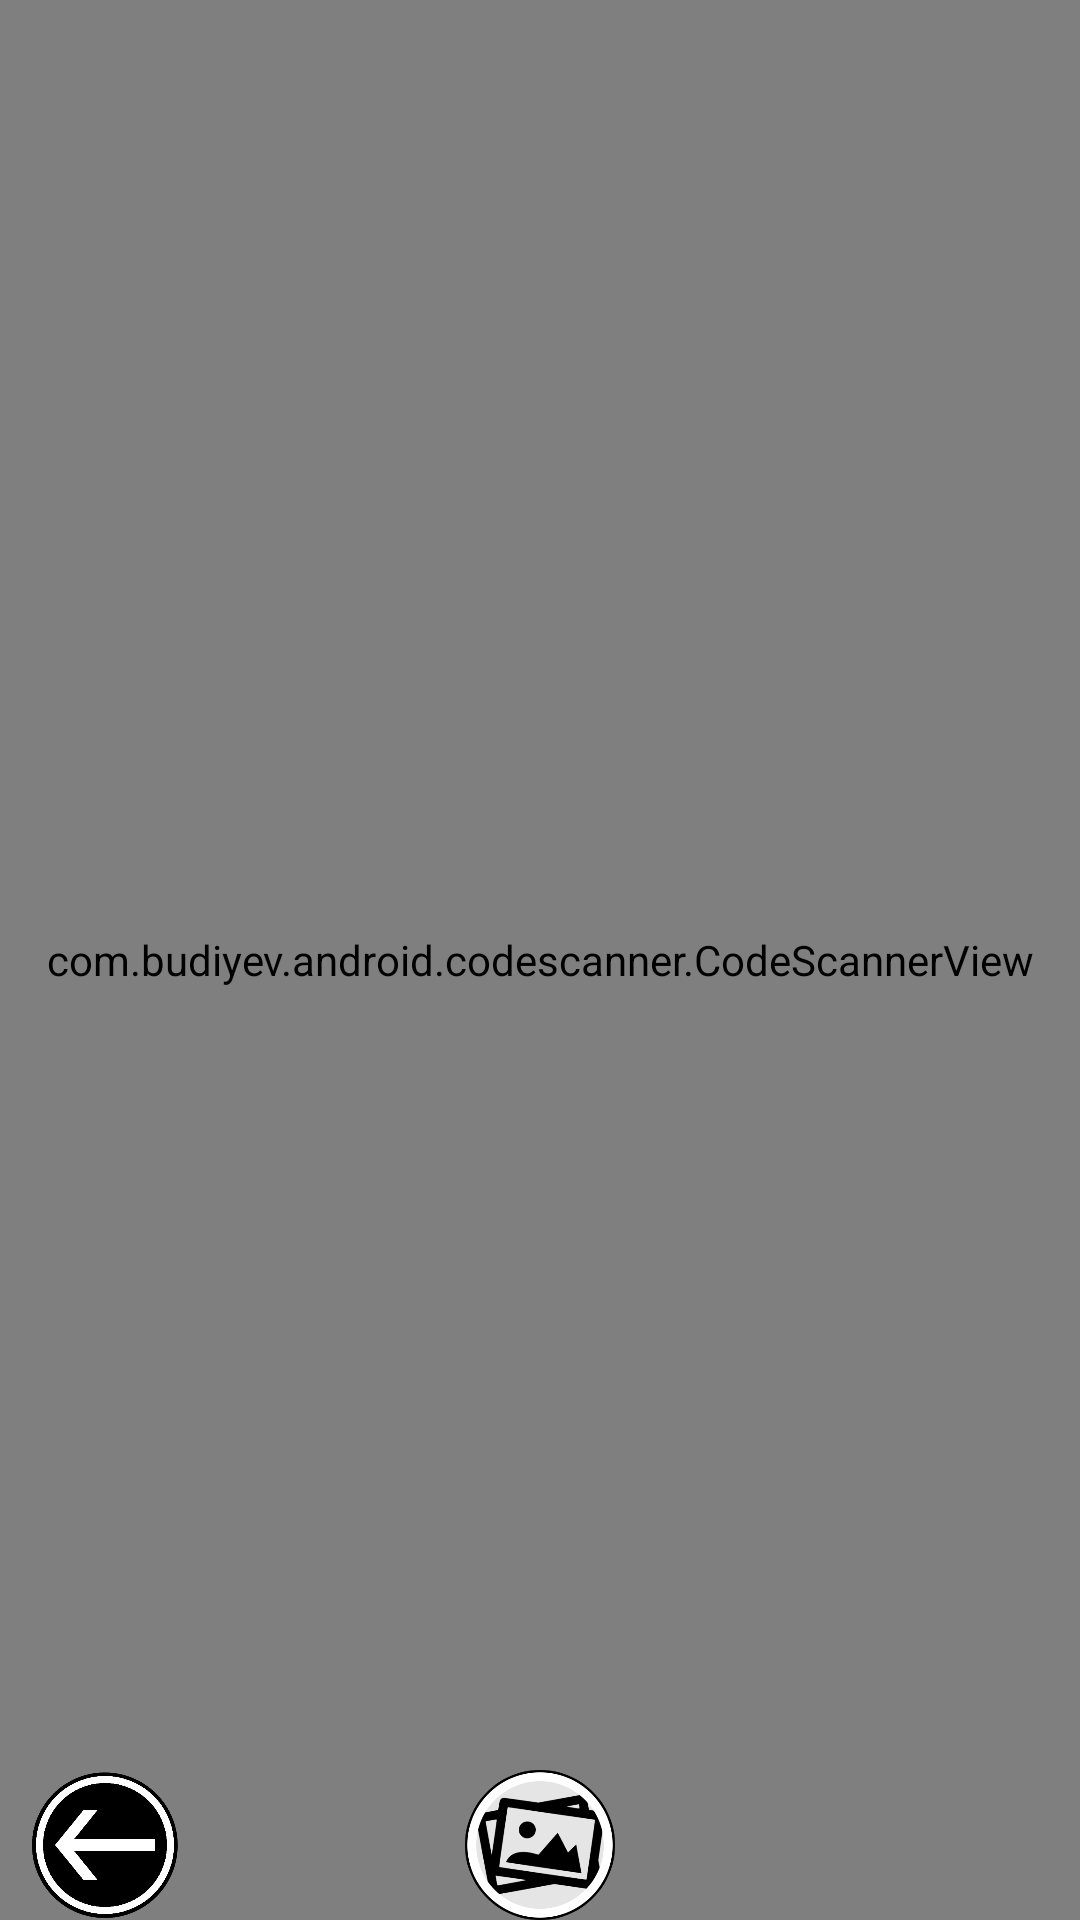

Icons on this 1080px x 1920px Android screen, each with its box as bbox=[x1, y1, x2, y2]:
Previous Activity: bbox=[32, 1772, 178, 1918]
